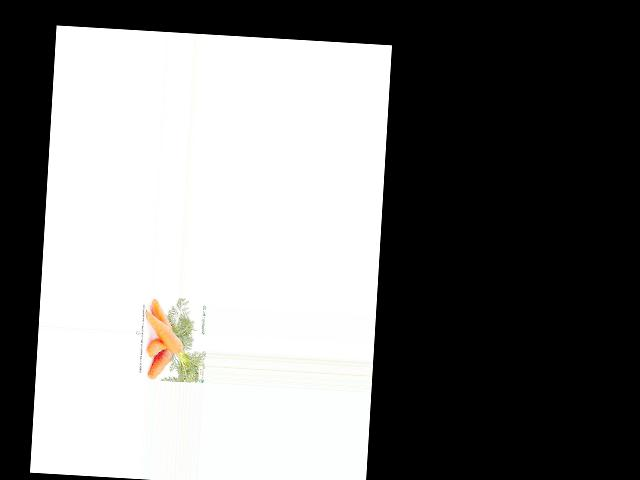carrot: (147, 347, 175, 380)
